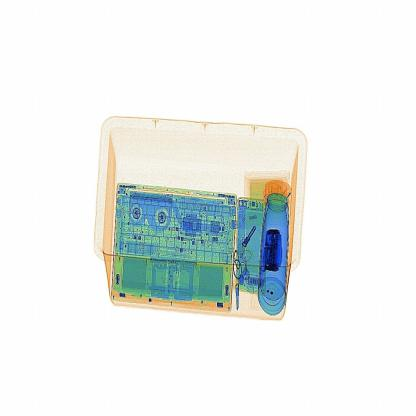scissors: (263, 224, 290, 273)
